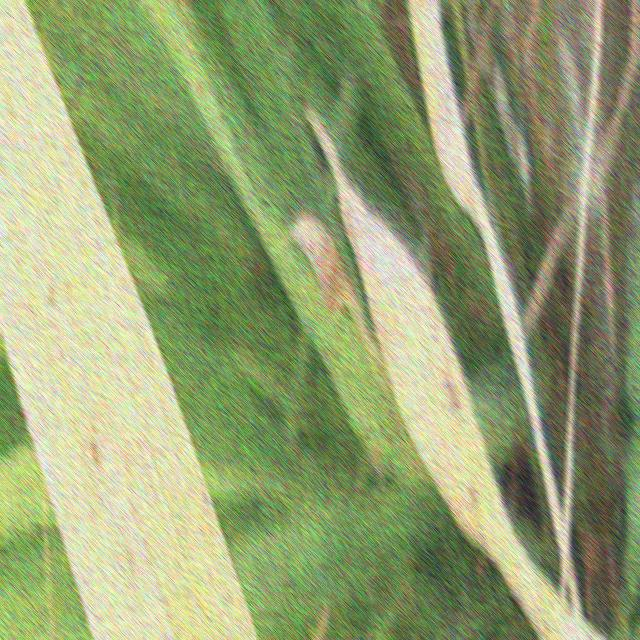NBS: (87, 408, 102, 478), (123, 521, 136, 584), (199, 479, 209, 516), (124, 439, 132, 476), (47, 278, 55, 312)
